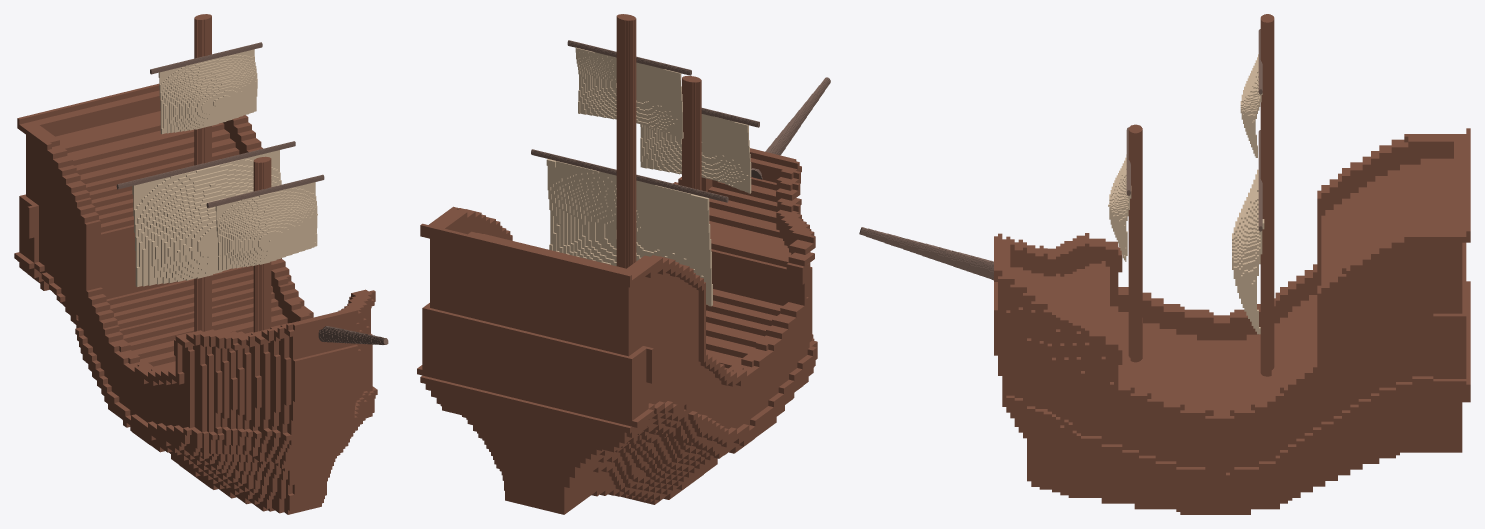
The model's file is MaybeFixedShip.fbx.
3 views of the same model, side by side, from view 1: azimuth 30°, elevation 25°; view 2: azimuth 150°, elevation 25°; view 3: azimuth 270°, elevation 25° (orthographic). The views are drawn at different scales.
Visible parts, largest first — view 1: PirateShip; view 2: PirateShip; view 3: PirateShip.
Boxes of the visible parts, box(x1,y1,x2,y2) form: PirateShip: box(14, 14, 388, 514); PirateShip: box(417, 14, 830, 514); PirateShip: box(859, 14, 1470, 514).
Size of the model in its own units: 225 by 469 by 536.
